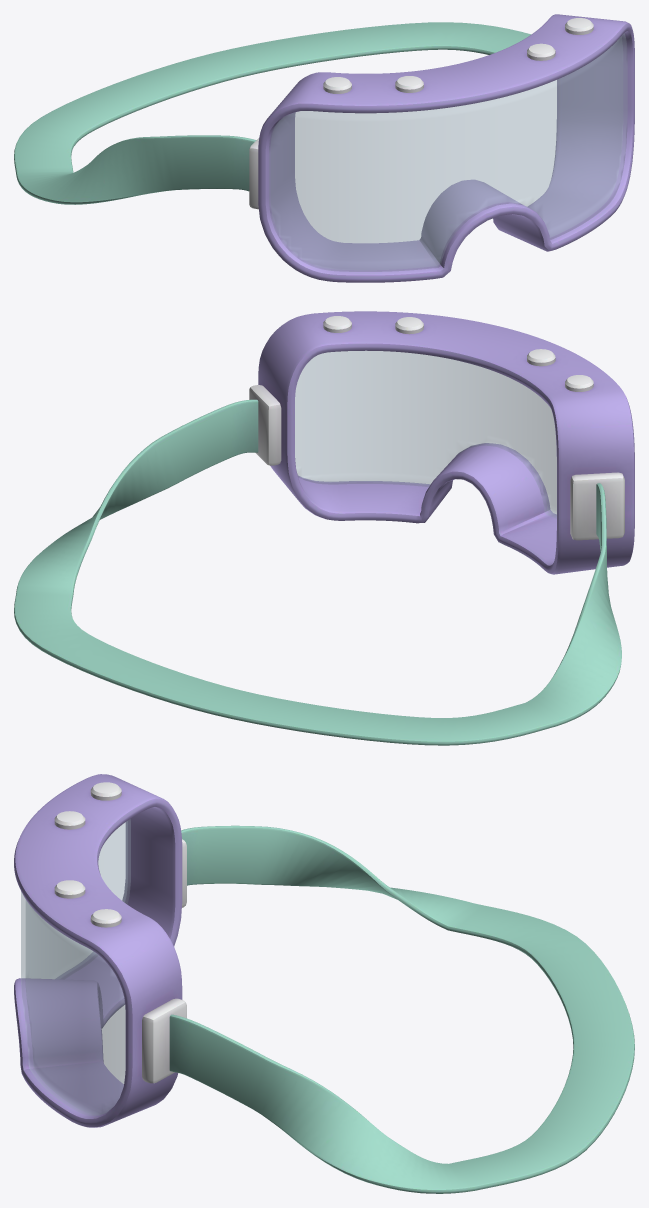
The model's file is safety-goggles.glb.
The picture shows the model from 3 angles, top to bottom: view 1: azimuth 30°, elevation 25°; view 2: azimuth 150°, elevation 25°; view 3: azimuth 270°, elevation 25°; orthographic projection. The views are drawn at different scales.
Parts seen in each view (by area): view 1: safety-goggles_body, safety-goggles_lens_glass; view 2: safety-goggles_body, safety-goggles_lens_glass; view 3: safety-goggles_body, safety-goggles_lens_glass.
Part boxes in pixels (box(x1,y1,x2,y2)): safety-goggles_body: box(14, 14, 634, 282); safety-goggles_lens_glass: box(269, 33, 627, 271); safety-goggles_body: box(14, 311, 634, 745); safety-goggles_lens_glass: box(295, 350, 556, 518); safety-goggles_body: box(14, 774, 634, 1193); safety-goggles_lens_glass: box(21, 819, 130, 1115).
Bounding box in the file's own units: 0.2176 × 0.068 × 0.1915.
Materials: 2 (1 with a texture image).
